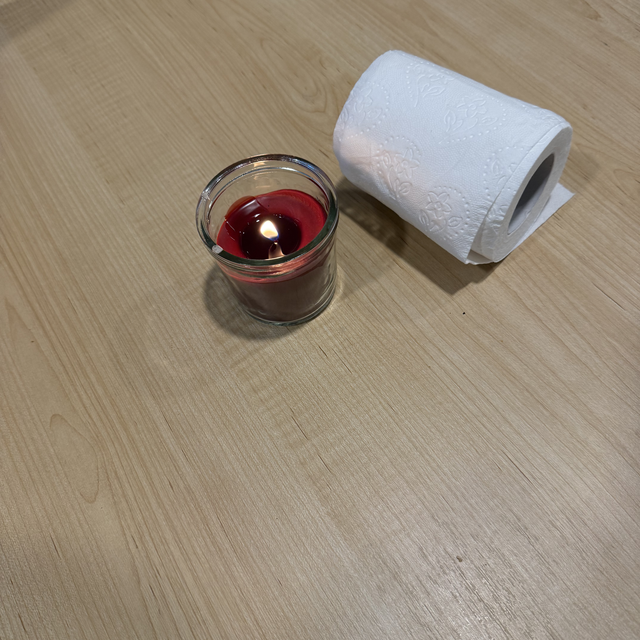Candle: (194, 153, 344, 332)
Toilet Paper: (333, 48, 575, 268)
